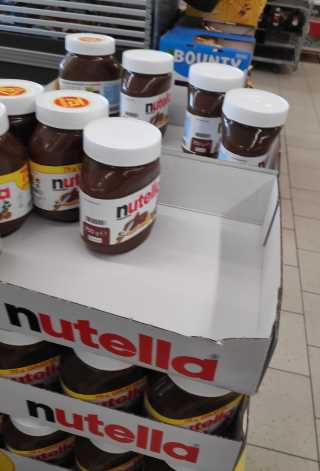nutella: (77, 116, 163, 256), (29, 88, 109, 224), (219, 87, 291, 182), (180, 61, 244, 156), (119, 49, 175, 136)
